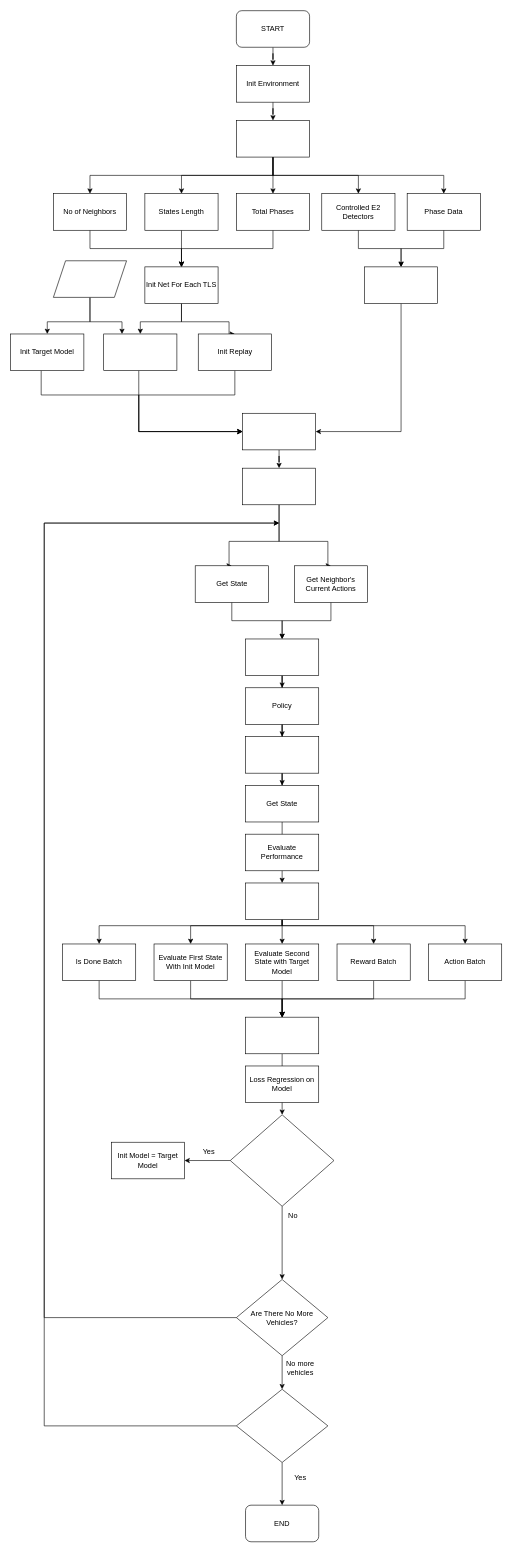
Some shapes in this 512 by 1552 pixel diagram are drawn without their labels. The centre of each missing label's shape, as x and y in pixels:
Calculate Loss Using Q Formula: the point at 282,1035
Create Action Function: the point at 401,284
Get Q values: the point at 282,657
Get Replay: the point at 282,901
Hyper Parameters: the point at 90,278
If Time Step == Sync Rate: the point at 282,1160
Init Model: the point at 140,352
Init Variables For Each TLS: the point at 273,138
Is it the Last Epoch?: the point at 282,1425
Randomize Actions: the point at 279,486
Start Training: the point at 279,431
Take Action: the point at 282,754
